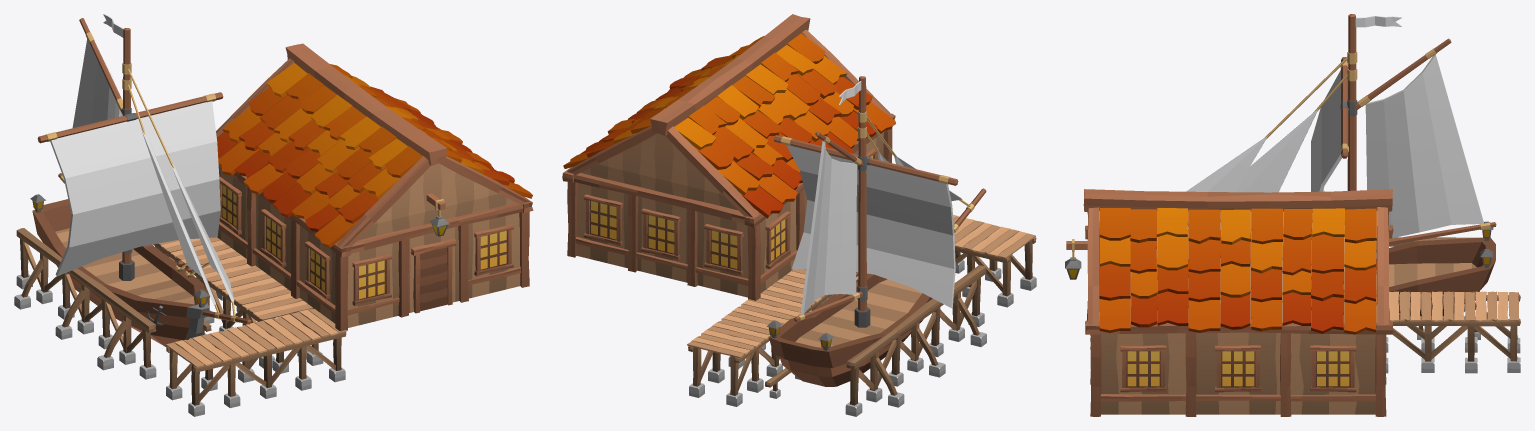
The model's file is ship-building-shop.glb.
The picture shows the model from 3 angles, left to right: view 1: azimuth 30°, elevation 25°; view 2: azimuth 150°, elevation 25°; view 3: azimuth 270°, elevation 25°; orthographic projection. The views are drawn at different scales.
Parts seen in each view (by area): view 1: wooden_platform_2; view 2: wooden_platform_2; view 3: wooden_platform_2.
Boxes of the visible parts, x1=… form: wooden_platform_2: x1=14, y1=14, x2=533, y2=416; wooden_platform_2: x1=562, y1=14, x2=1036, y2=416; wooden_platform_2: x1=1065, y1=14, x2=1520, y2=416.
Size of the model in its own units: 31.75 by 22.69 by 30.4.
1 material, 1 textured.
